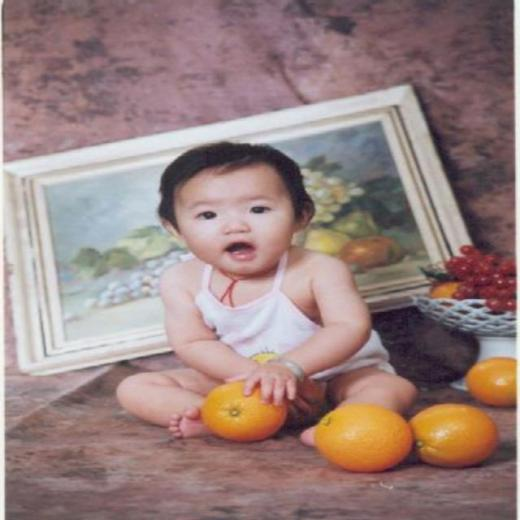Grape: (313, 406, 409, 470), (196, 376, 289, 442), (402, 401, 497, 465), (463, 356, 518, 409)
